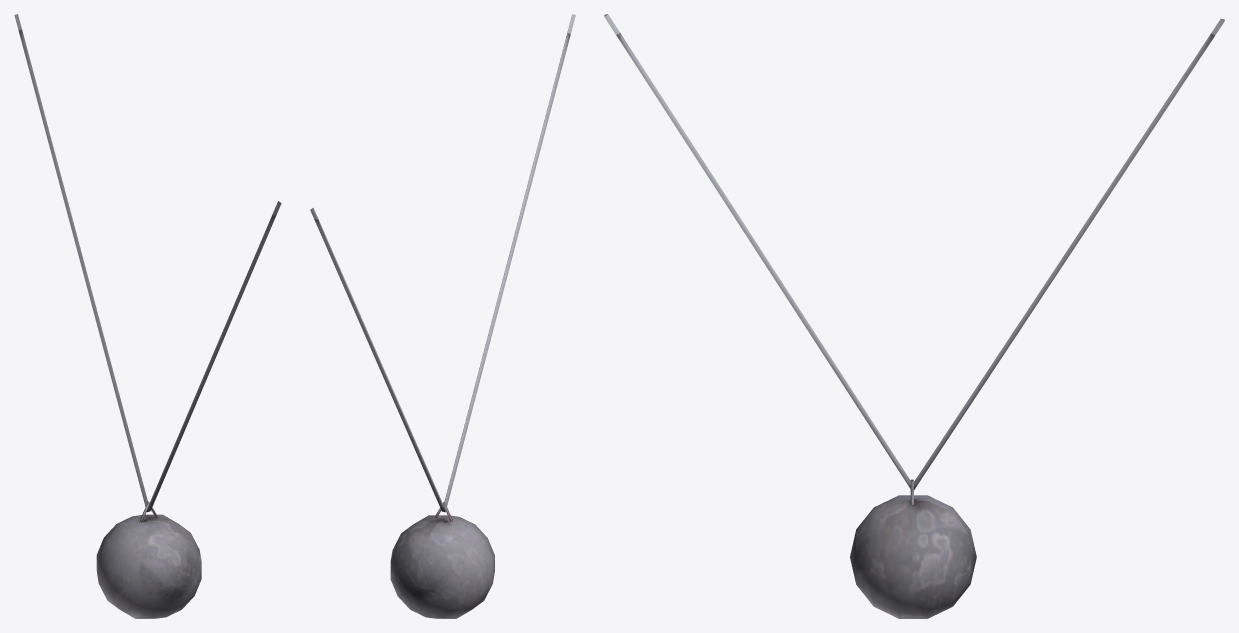
Rendered from newton_cradle_ball_string_4.DAE.
3 views of the same model, side by side, from view 1: azimuth 30°, elevation 25°; view 2: azimuth 150°, elevation 25°; view 3: azimuth 270°, elevation 25° (orthographic). The views are drawn at different scales.
Parts seen in each view (by area): view 1: Object005; view 2: Object005; view 3: Object005.
Boxes of the visible parts, bbox=[...] form: Object005: bbox=[14, 14, 281, 618]; Object005: bbox=[310, 14, 575, 618]; Object005: bbox=[604, 14, 1224, 618].
Size of the model in its own units: 0.0287 by 0.1571 by 0.1475.
